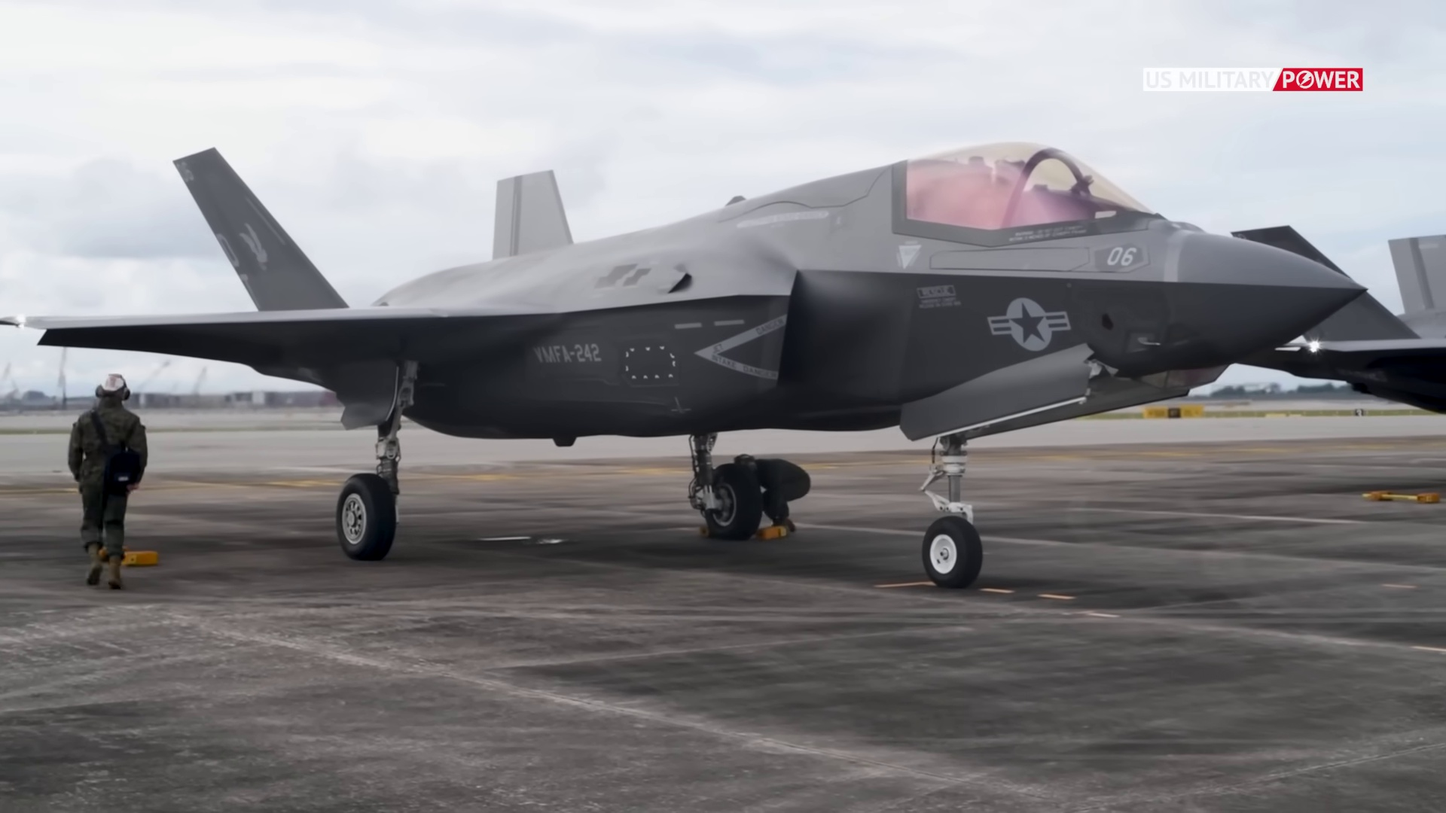F35: (0, 137, 1371, 592)
